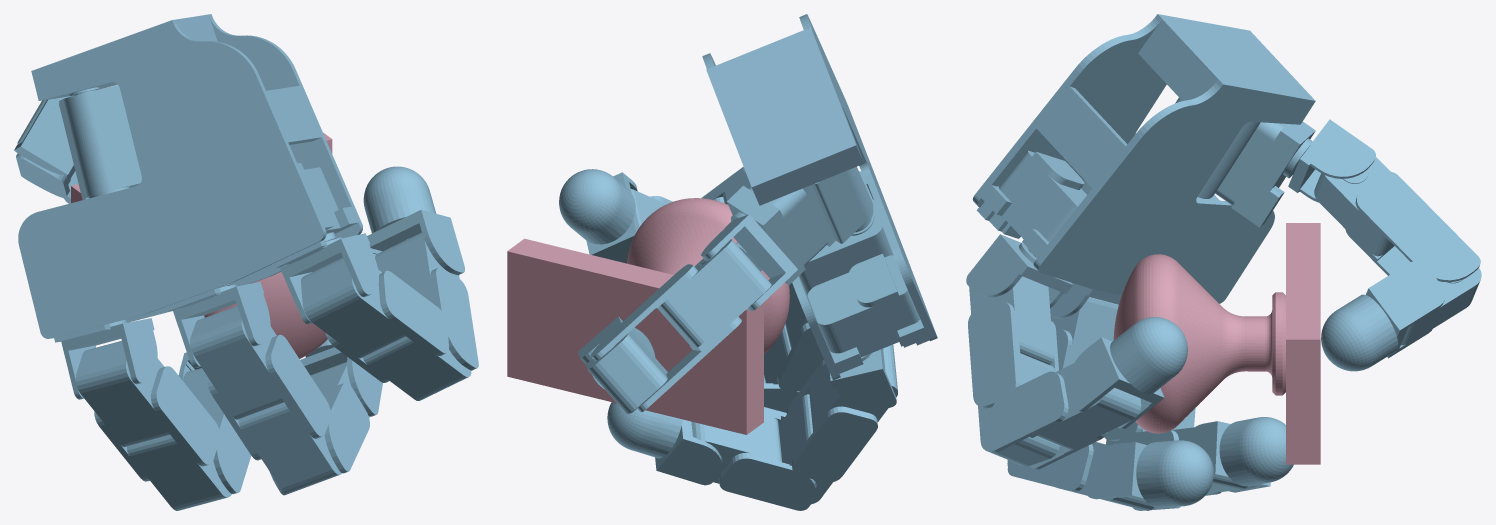
3 views of the same model, side by side, from view 1: azimuth 30°, elevation 25°; view 2: azimuth 150°, elevation 25°; view 3: azimuth 270°, elevation 25° (orthographic). The views are drawn at different scales.
Parts seen in each view (by area): view 1: world; view 2: world; view 3: world.
Boxes of the visible parts, bbox=[...] form: world: bbox=[14, 14, 478, 510]; world: bbox=[507, 14, 937, 510]; world: bbox=[966, 14, 1481, 510].
Bounding box in the file's own units: 0.1595 × 0.1929 × 0.1868.
